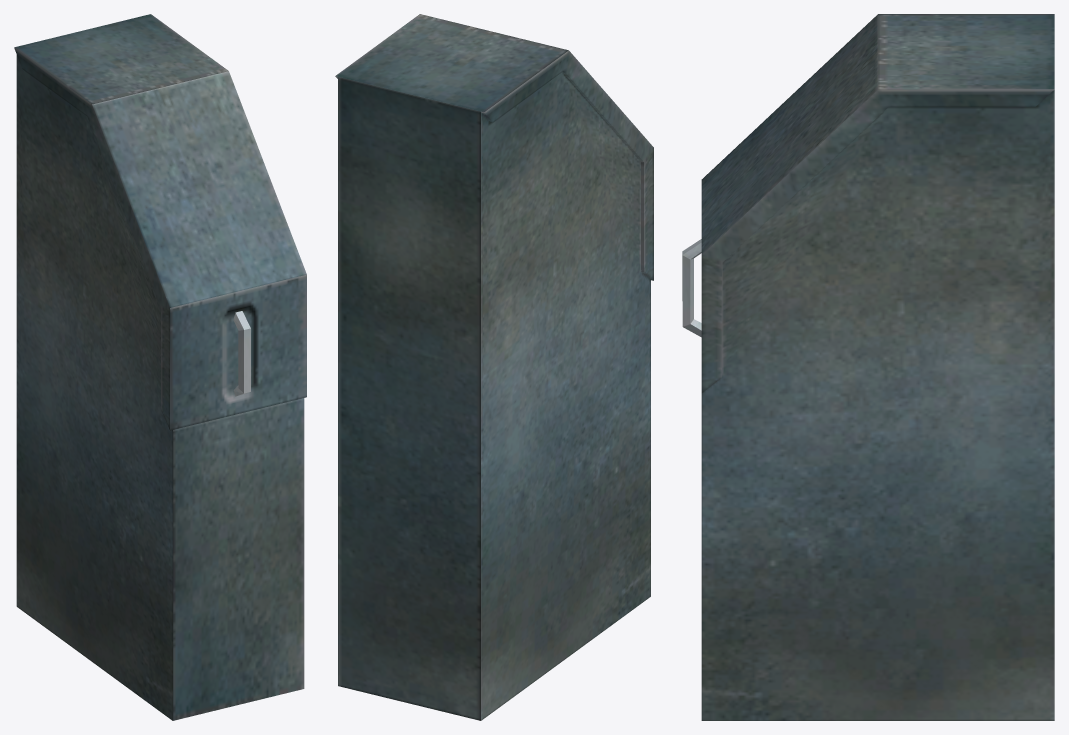
The model's file is con_gen_crate_basic_s2_l0.fbx.
3 views of the same model, side by side, from view 1: azimuth 30°, elevation 25°; view 2: azimuth 150°, elevation 25°; view 3: azimuth 270°, elevation 25° (orthographic). The views are drawn at different scales.
Visible parts, largest first — view 1: mesh_node; view 2: mesh_node; view 3: mesh_node.
Boxes of the visible parts, x1,y1,x2,y2 form: mesh_node: [14, 14, 306, 720]; mesh_node: [335, 14, 653, 720]; mesh_node: [682, 14, 1054, 720].
Size of the model in its own units: 0.2059 by 0.8045 by 0.4288.
